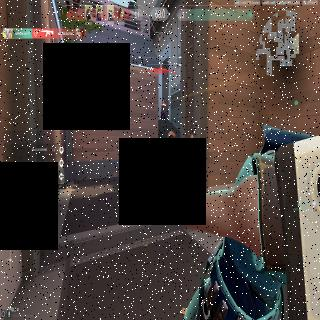ENEMY-HEAD: (162, 100, 164, 104)
